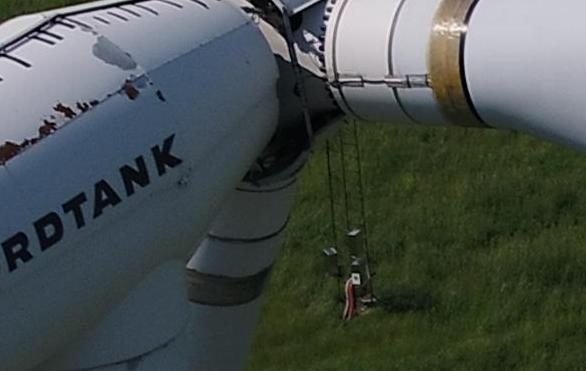damage: (91, 35, 138, 71), (0, 139, 40, 165), (122, 73, 150, 98), (51, 101, 77, 118), (38, 119, 57, 137), (177, 168, 191, 188), (76, 101, 88, 111), (90, 98, 100, 107)
